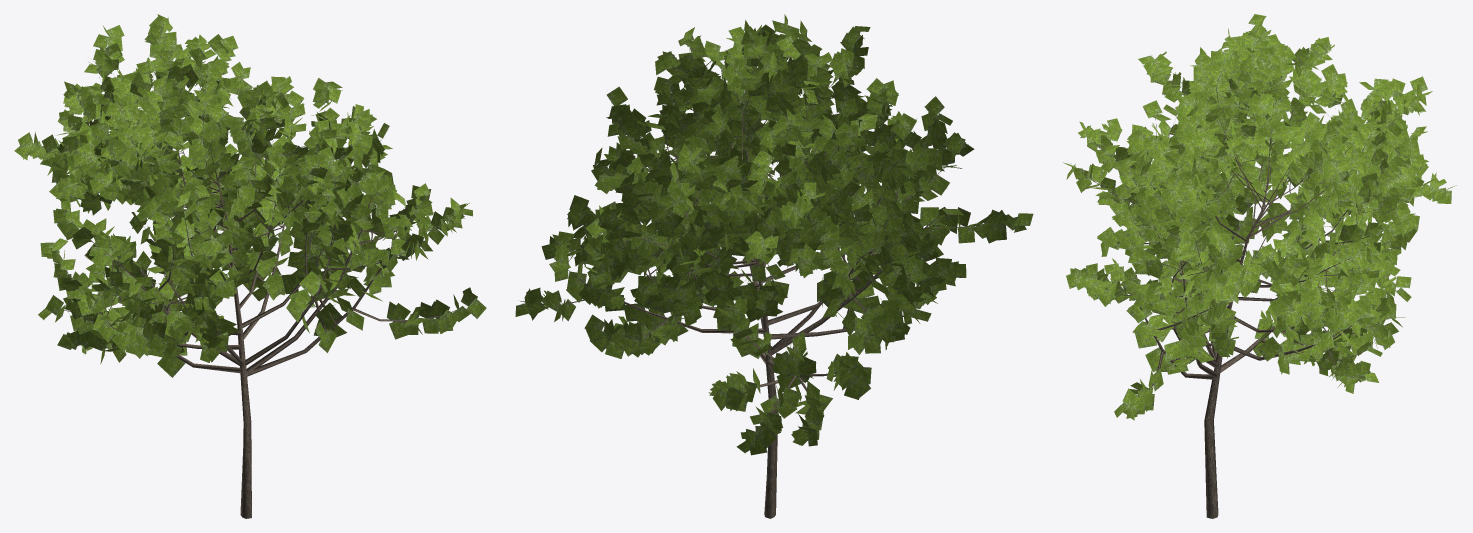
Rendered from Arbol1.glb.
The picture shows the model from 3 angles, left to right: view 1: azimuth 30°, elevation 25°; view 2: azimuth 150°, elevation 25°; view 3: azimuth 270°, elevation 25°; orthographic projection. The views are drawn at different scales.
Parts seen in each view (by area): view 1: tree1; view 2: tree1; view 3: tree1.
Boxes of the visible parts, bbox=[...] form: tree1: bbox=[14, 14, 486, 518]; tree1: bbox=[515, 14, 1033, 518]; tree1: bbox=[1063, 14, 1456, 518].
Bounding box in the file's own units: 16.05 × 18.84 × 14.16.
Materials: 2 (2 with a texture image).
